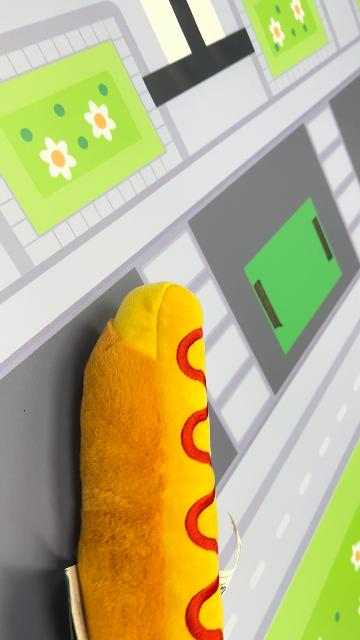hotdog: (76, 281, 226, 639)
